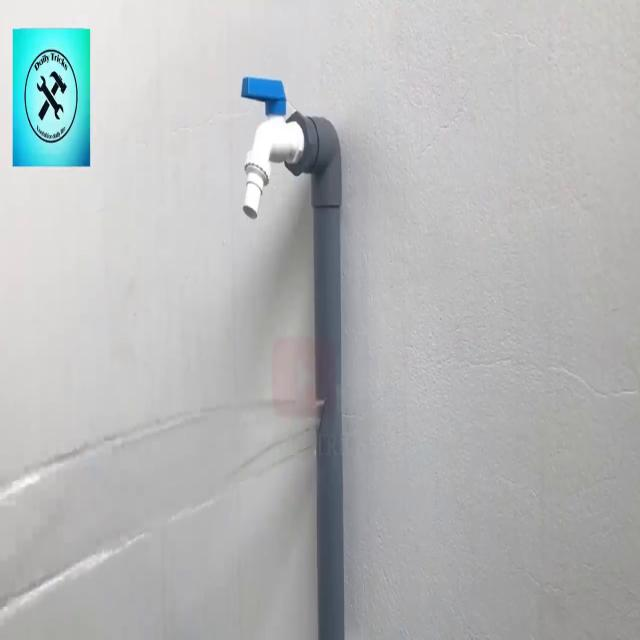leak: (0, 403, 326, 631)
